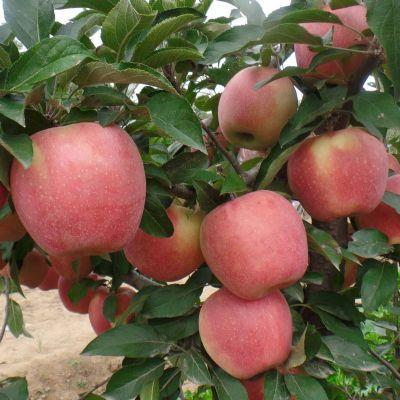apple: (8, 120, 148, 269), (199, 190, 309, 299), (285, 126, 393, 220), (197, 286, 291, 376), (217, 66, 297, 152), (124, 199, 208, 280), (87, 287, 113, 334)
